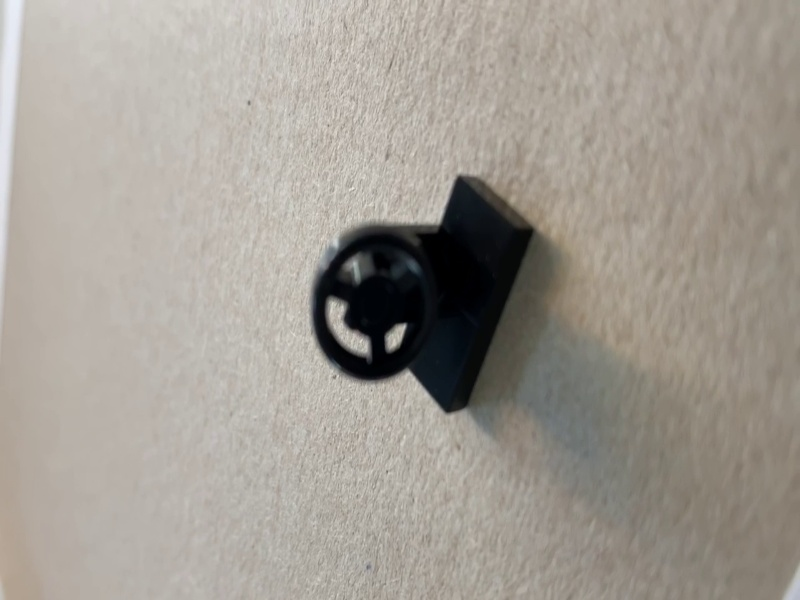steering wheel: (310, 174, 536, 418)
